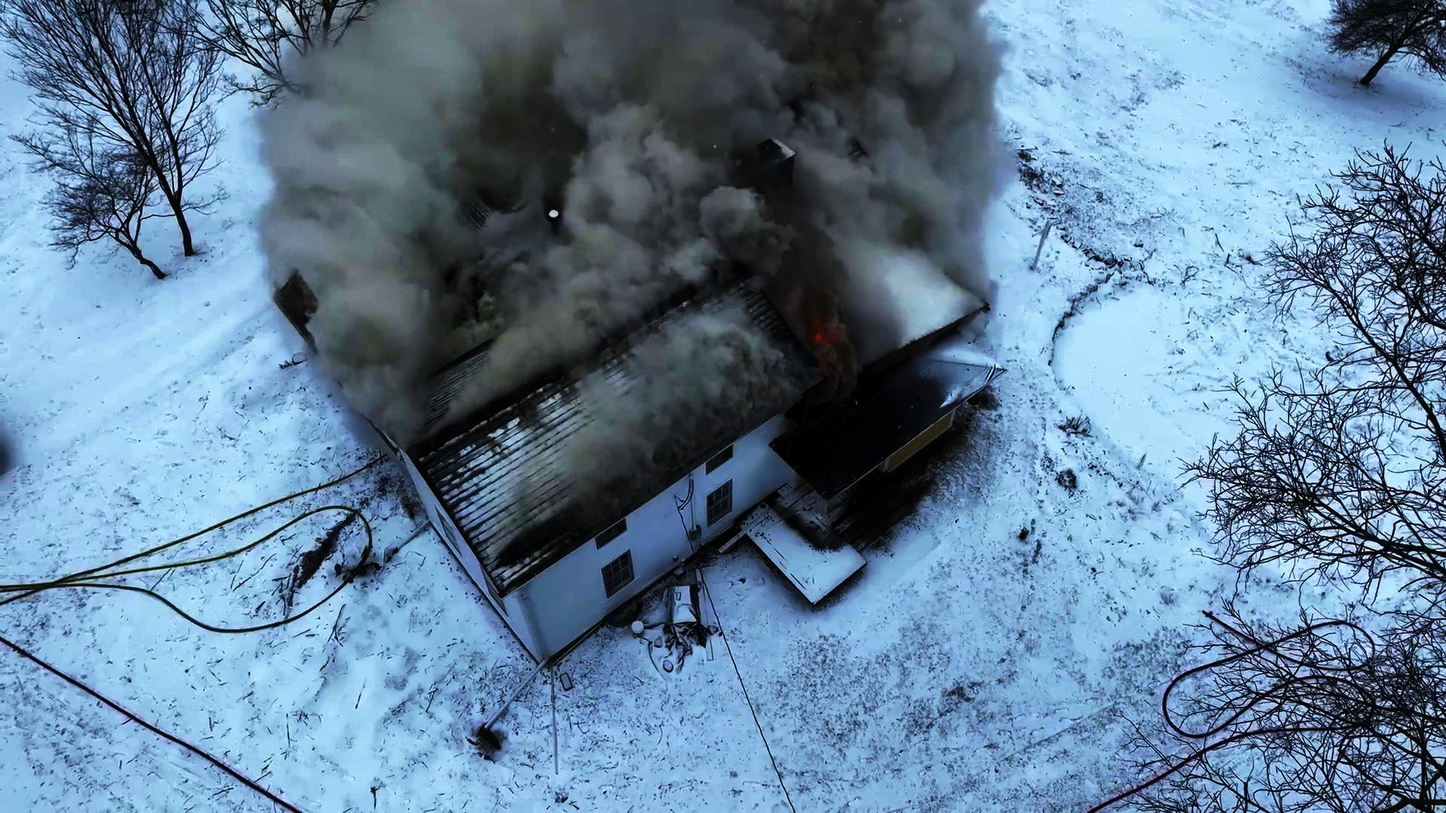smoke: (737, 149, 864, 359)
